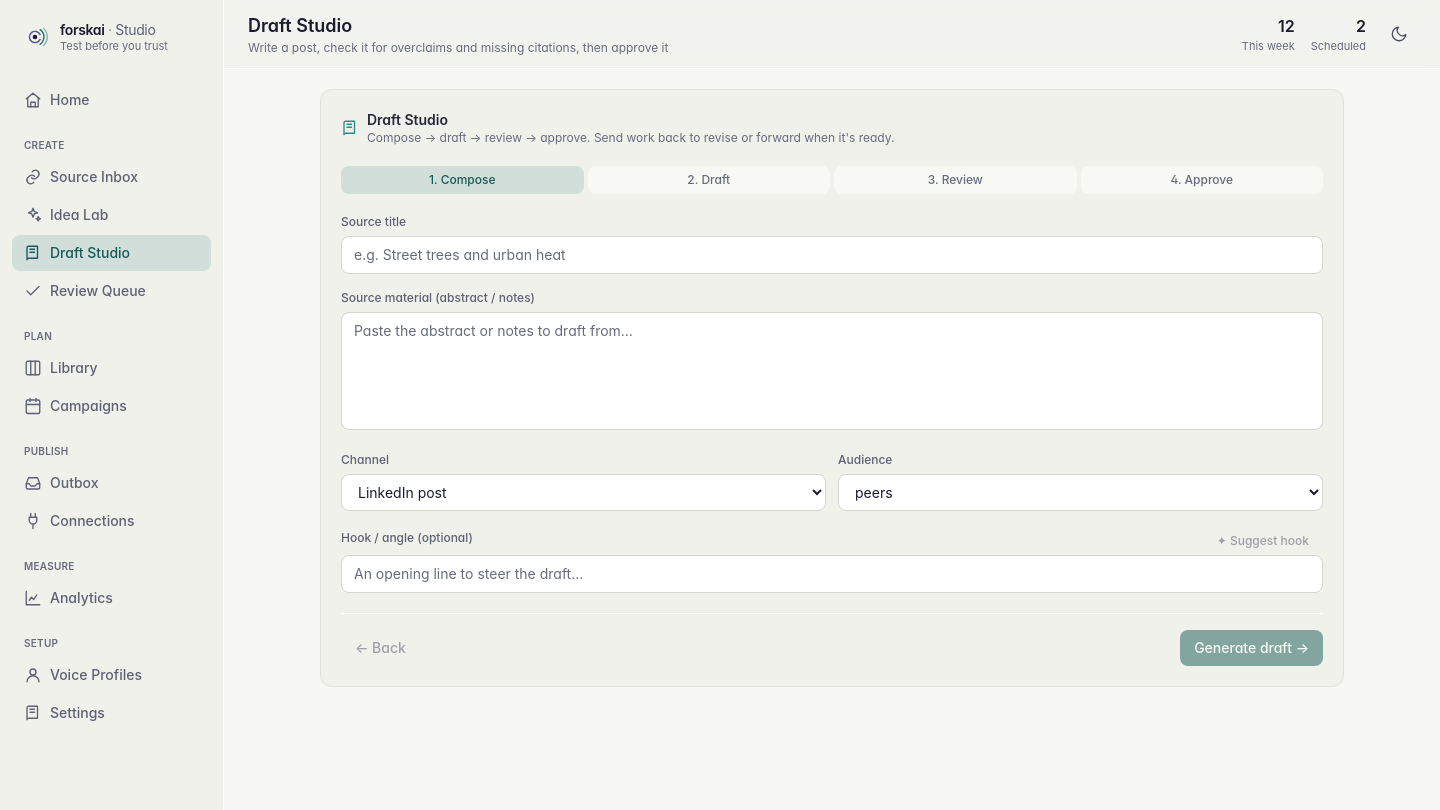
Test: Draft Studio › blocks export of unsafe content and lets the author send it back to revise
Type "Wonder cure" into the field labelled "Source title".
click(832, 255); type("Wonder cure")  # box [341,236,1323,274]
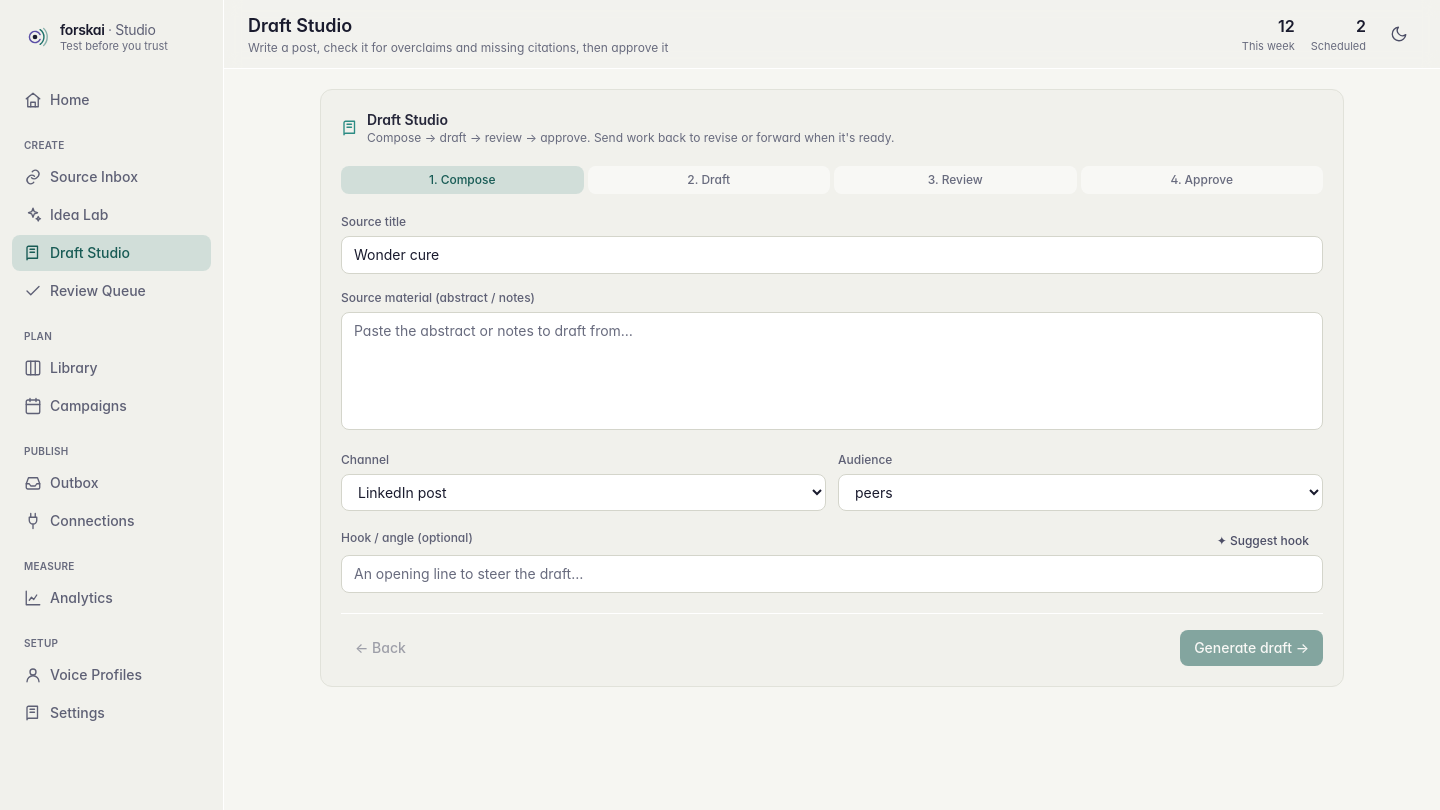
Type "This drug cures cancer." into the text box labelled "Source material (abstract / notes)".
click(832, 371); type("This drug cures cancer.")  # box [341,312,1323,430]
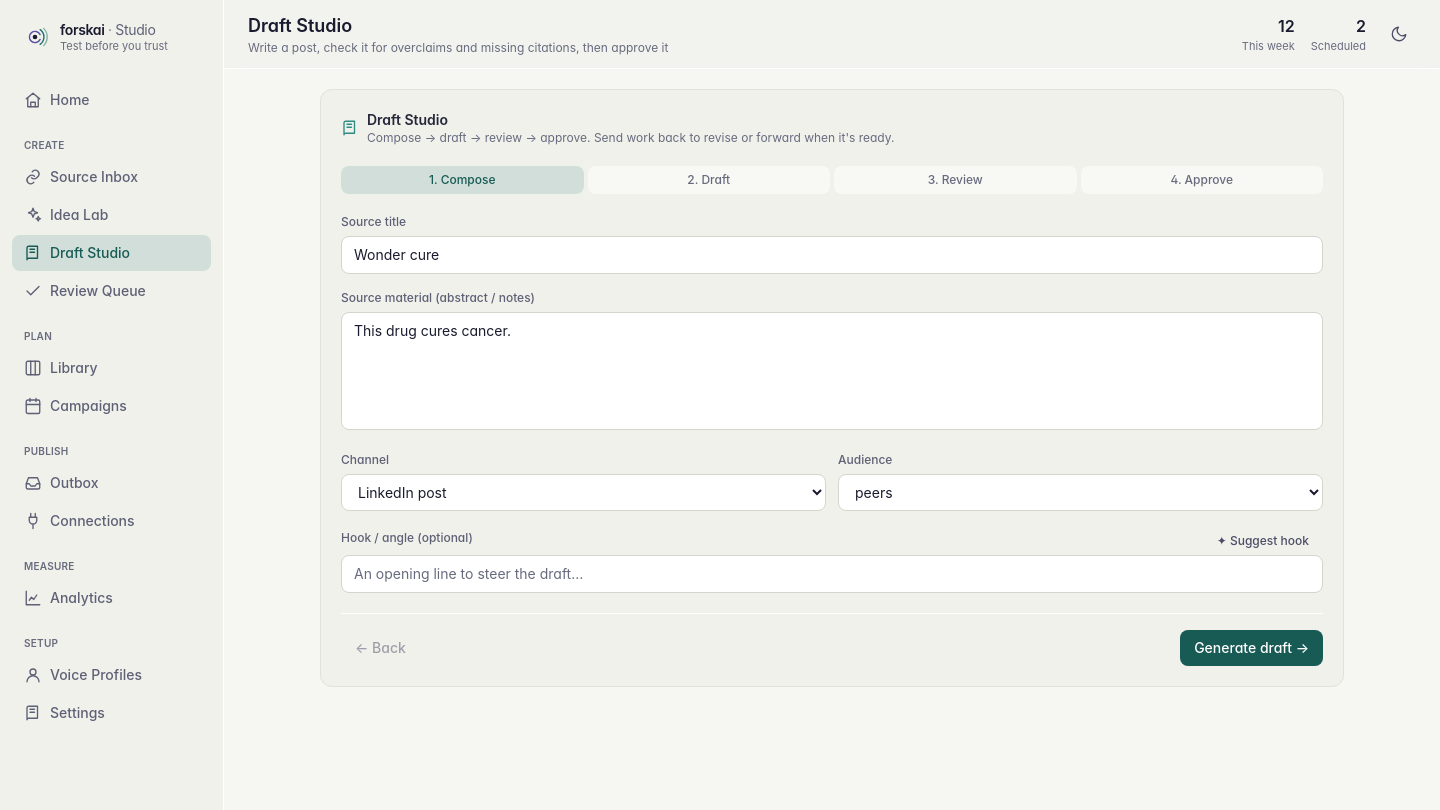
Click the button "Generate draft →".
click(1252, 648)  # box [1180,630,1323,666]
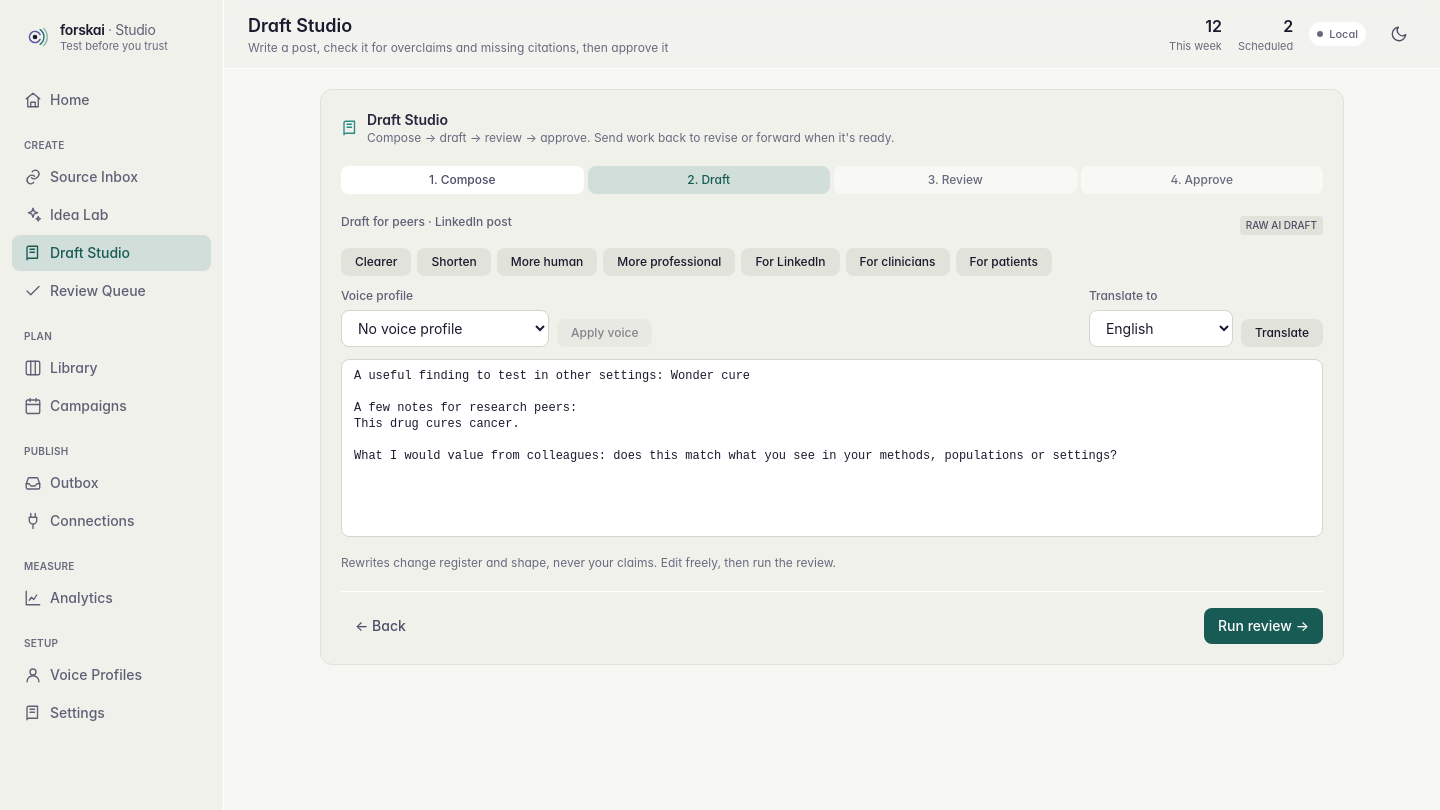
expect the text box with test id "studio-draft" is shown: met, box [341,359,1323,537]
Click the button "Run review →".
click(1264, 626)  # box [1204,608,1323,644]
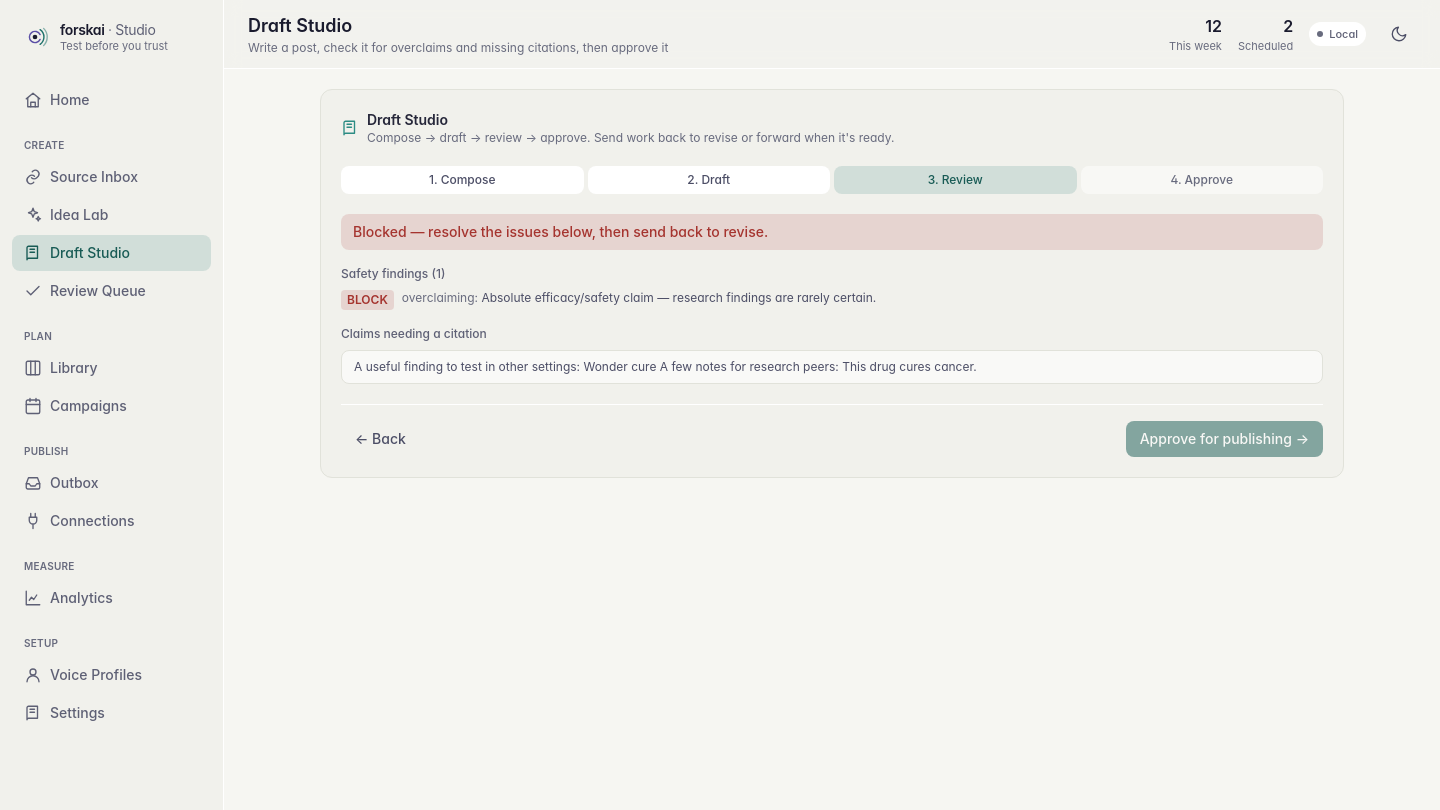
expect the button "Approve for publishing →" is disabled: met, box [1126,421,1323,457]
expect the list item that starts with "block" is shown: met, box [341,290,876,310]
Click the button "← Back".
click(380, 439)  # box [341,421,420,457]
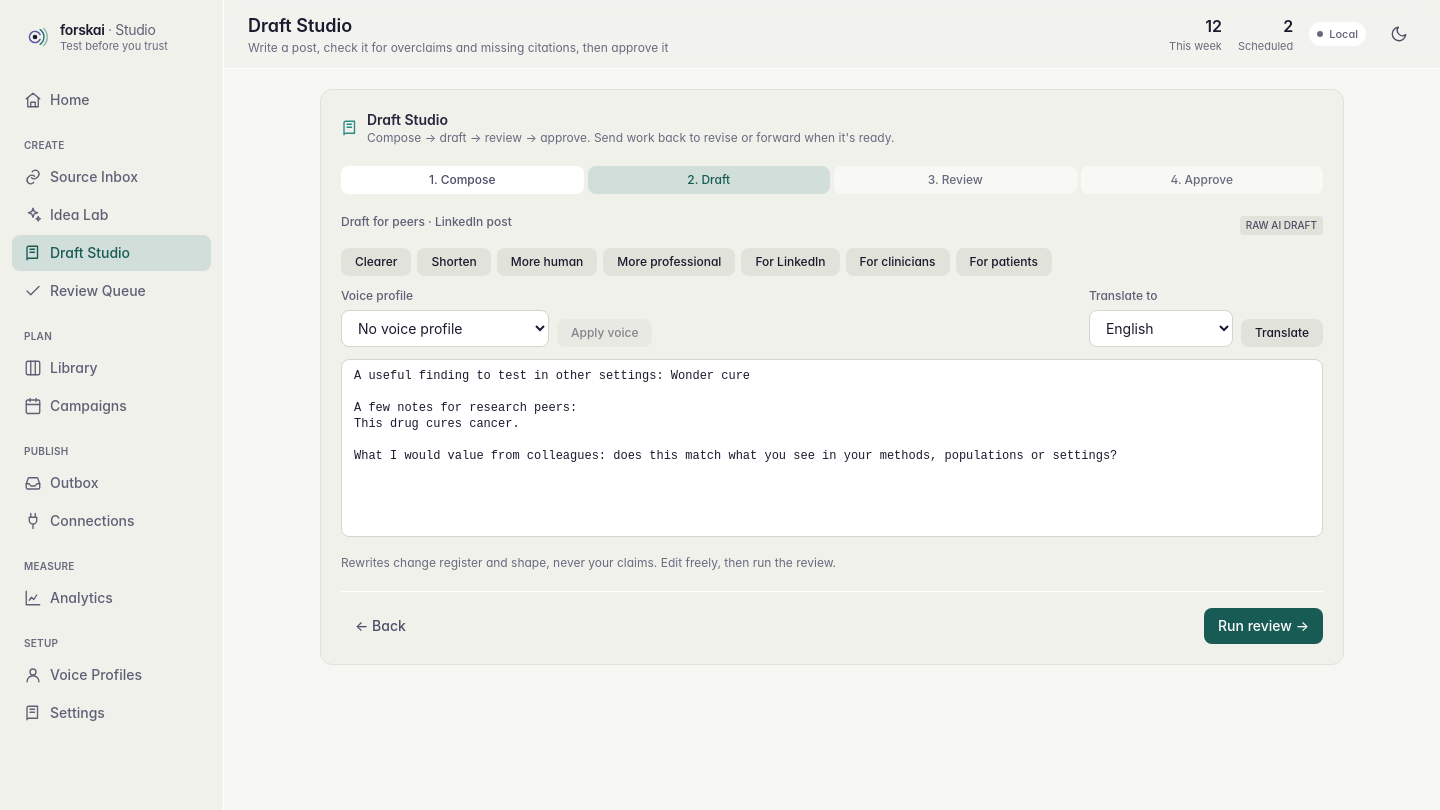
expect the text box with test id "studio-draft" is shown: met, box [341,359,1323,537]
